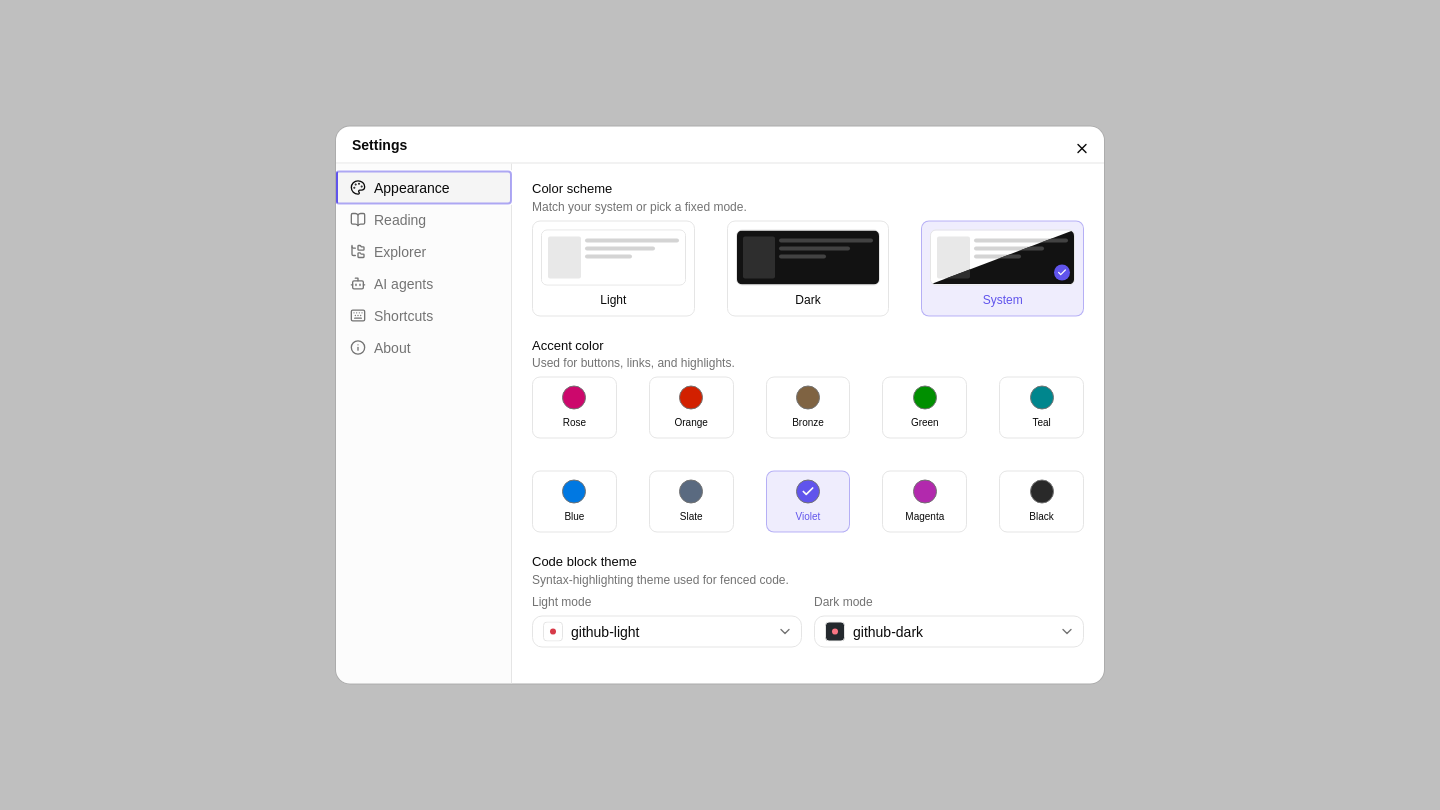
SettingsDialog › switches to the AI agents section
Click the button "AI agents" at (424, 284), box [336, 268, 511, 300]
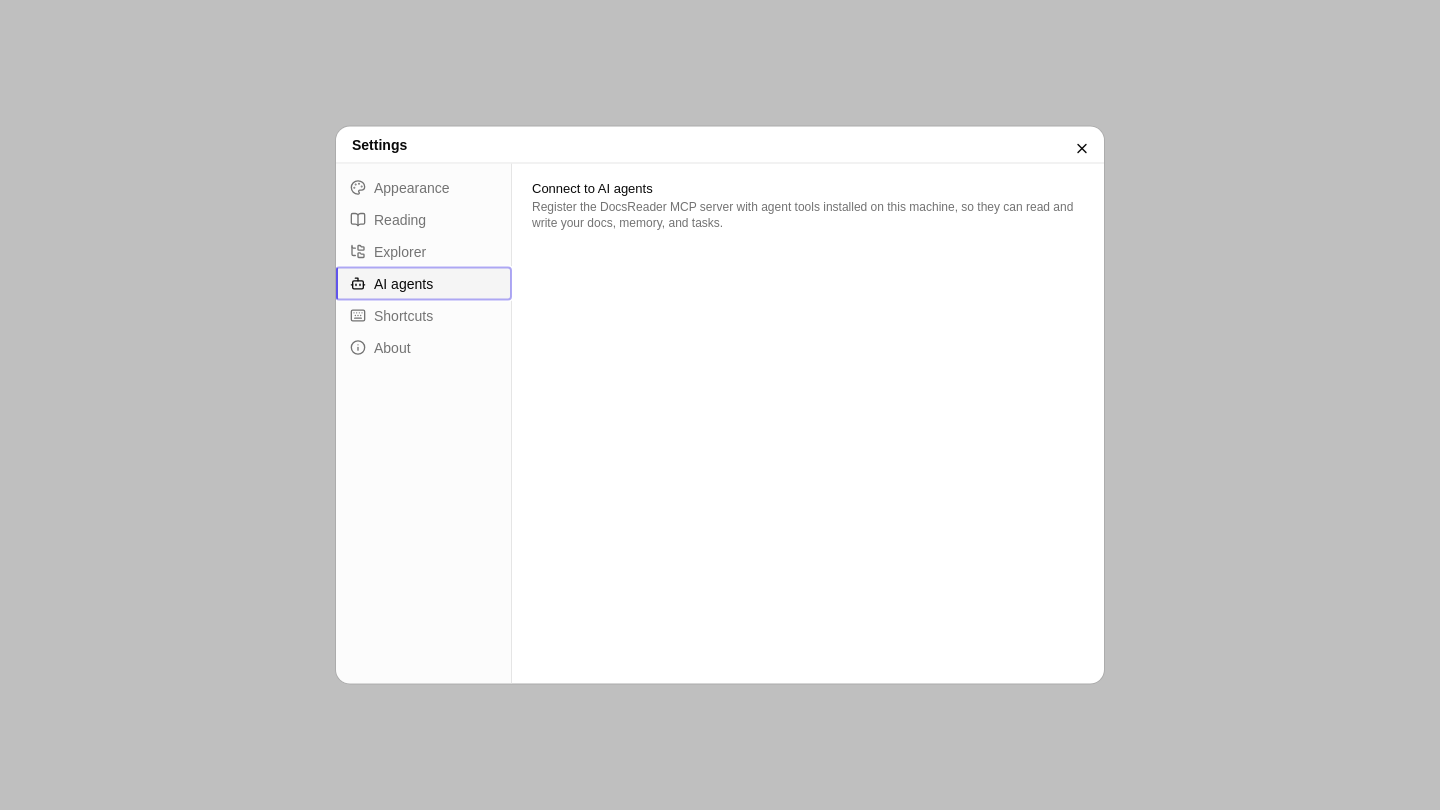
Check: the text "Connect to AI agents" is shown, box [532, 180, 653, 196]
